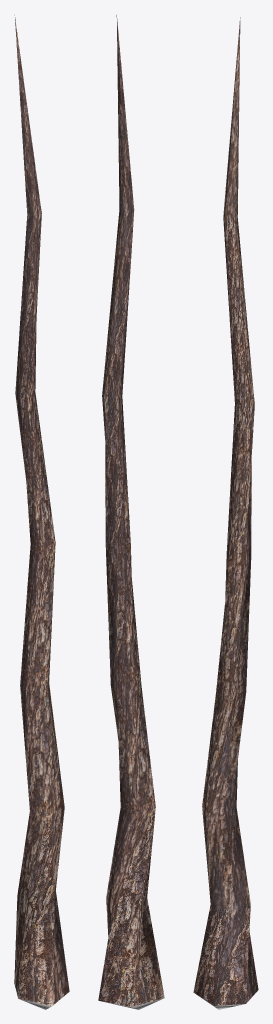
The model's file is Dipterocarpaceae_collider.fbx.
3 views of the same model, side by side, from view 1: azimuth 90°, elevation 25°; view 2: azimuth 150°, elevation 25°; view 3: azimuth 330°, elevation 25° (orthographic).
Visible parts, largest first — view 1: Tree_0; view 2: Tree_0; view 3: Tree_0.
Boxes of the visible parts, x1,y1,x2,y2 form: Tree_0: (14,15,69,1005); Tree_0: (98,15,164,1006); Tree_0: (193,17,258,1005).
Bounding box in the file's own units: 44.14 × 812 × 40.95.
